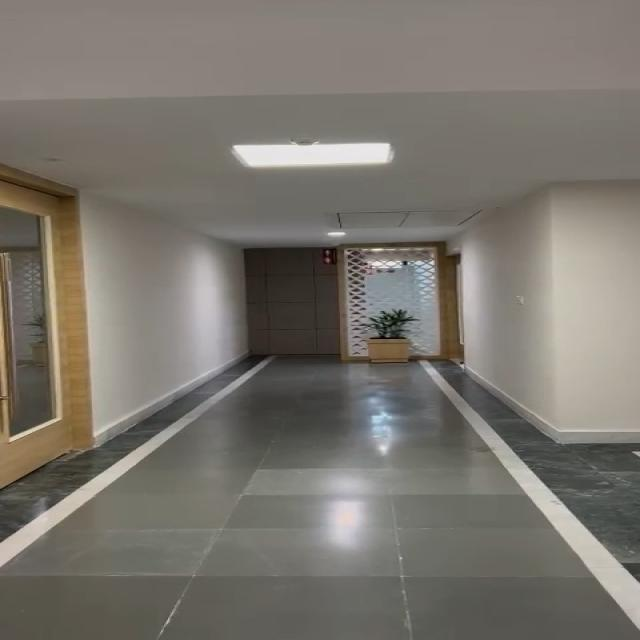door: (0, 186, 125, 472), (248, 251, 475, 380)
floor: (187, 405, 543, 640)
furniture: (364, 302, 434, 372)
wall: (459, 11, 640, 433)
